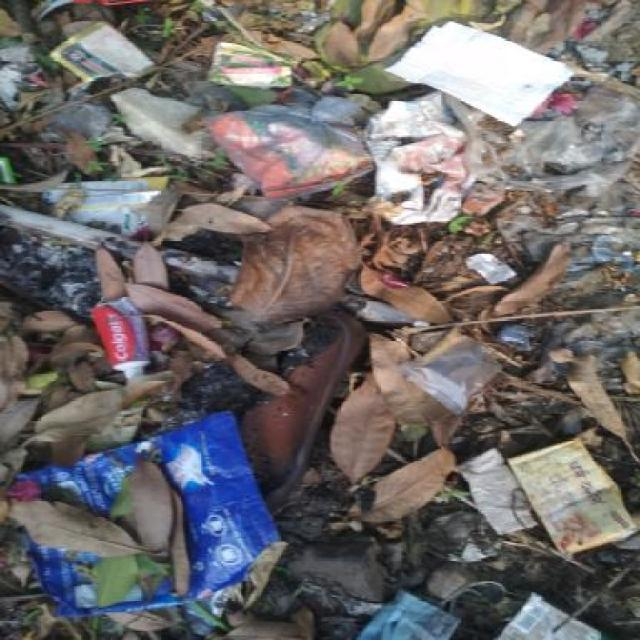garbage: (6, 289, 639, 639), (11, 8, 640, 270)
